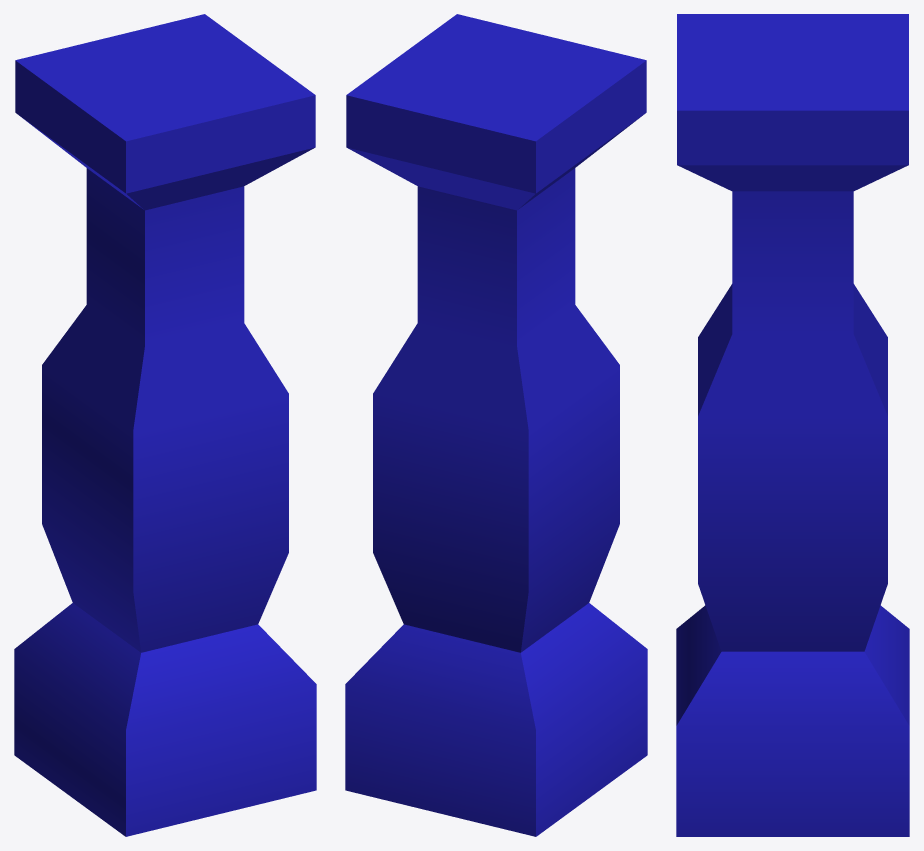
The model's file is palace_roof_top_fence_D.fbx.
3 renders of one model, left to right at view 1: azimuth 30°, elevation 25°; view 2: azimuth 150°, elevation 25°; view 3: azimuth 270°, elevation 25°, orthographic. The views are drawn at different scales.
Visible parts, largest first — view 1: Fence_D; view 2: Fence_D; view 3: Fence_D.
Boxes of the visible parts, x1=… form: Fence_D: x1=14, y1=14, x2=316, y2=836; Fence_D: x1=345, y1=14, x2=647, y2=836; Fence_D: x1=676, y1=14, x2=909, y2=836.
Bounding box in the file's own units: 12.56 × 43.69 × 12.72.
